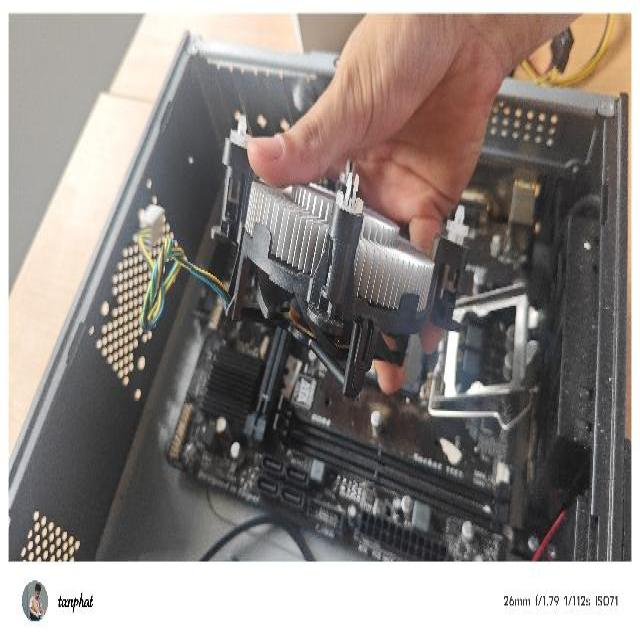CPU_Fan: (192, 111, 470, 402)
